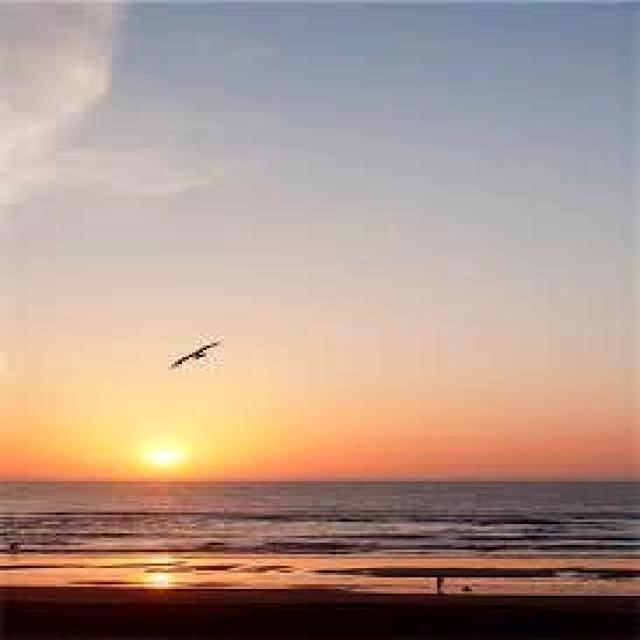bird: (166, 339, 220, 369)
